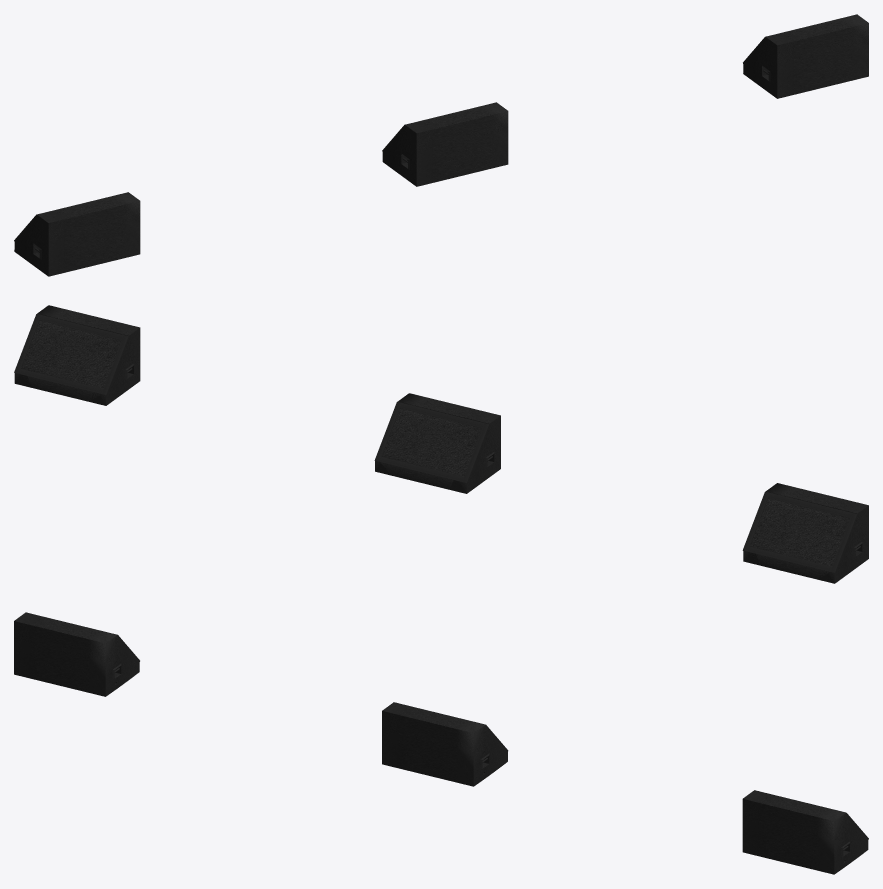
The model's file is Monitors.fbx.
3 renders of one model, top to bottom at view 1: azimuth 30°, elevation 25°; view 2: azimuth 150°, elevation 25°; view 3: azimuth 330°, elevation 25°, orthographic.
Parts seen in each view (by area): view 1: Monitors; view 2: Monitors; view 3: Monitors.
Boxes of the visible parts, x1,y1,x2,y2 form: Monitors: (14, 14, 868, 276); Monitors: (14, 305, 868, 583); Monitors: (14, 612, 868, 874).
Size of the model in its own units: 964 by 60 by 69.66.
Materials: 1 (1 with a texture image).
